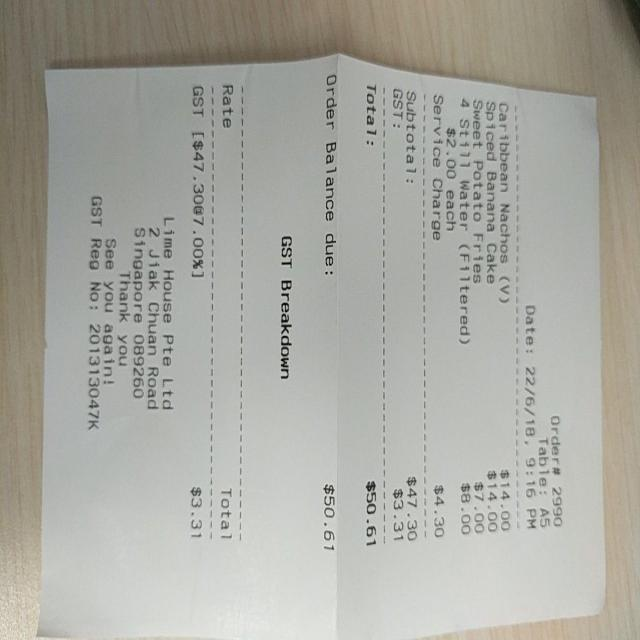bill_region: (352, 81, 515, 556)
